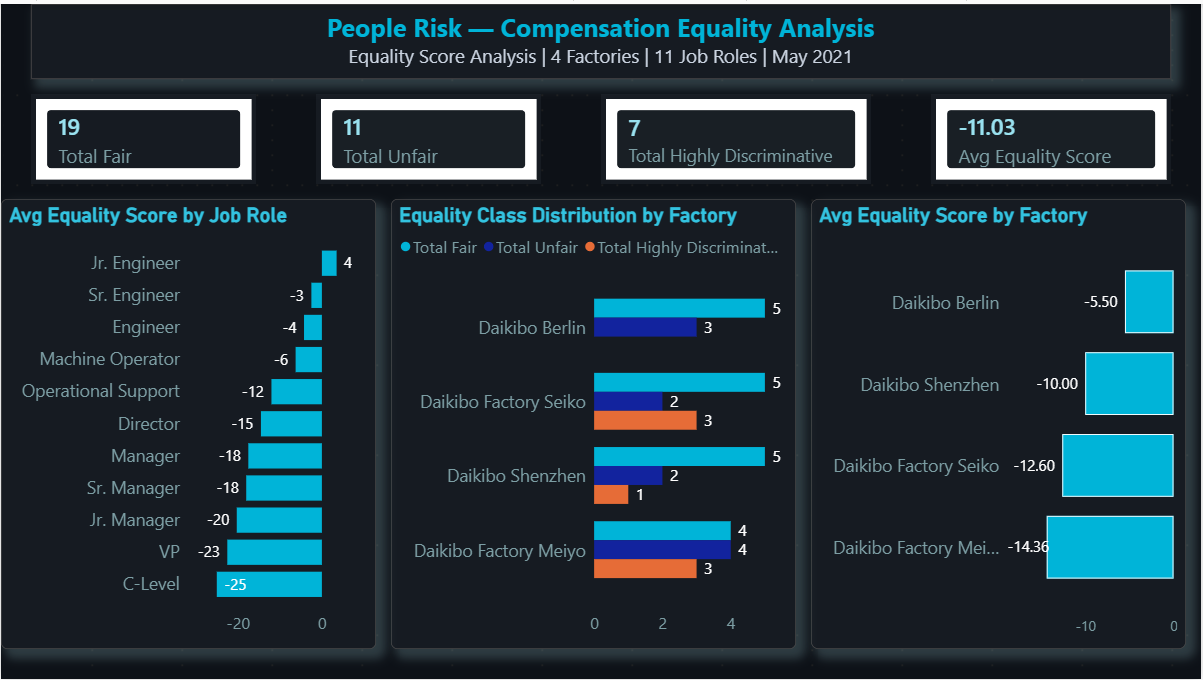

Layout of this report page (visuals, bound fields, positions):
{"tool":"powerbi","page":{"name":"People Risk","canvas":[1280,720],"ordinal":2},"visuals":[{"type":"clusteredBarChart","title":"Avg Equality Score by Factory","fields":{"Category":["Equality Table.Factory"],"Y":["Avg(Equality Table.Equality Score)"]},"box":[864,208,400,480],"z":0},{"type":"cardVisual","fields":{"Data":["KPI_Measures.Total Fair"]},"box":[32,96,240,96],"z":2000},{"type":"cardVisual","fields":{"Data":["KPI_Measures.Total Unfair"]},"box":[336,96,240,96],"z":3000},{"type":"cardVisual","fields":{"Data":["KPI_Measures.Total Highly Discriminative"]},"box":[640,96,288,96],"z":4000},{"type":"cardVisual","fields":{"Data":["KPI_Measures.Avg Equality Score"]},"box":[992,96,256,96],"z":5000},{"type":"clusteredBarChart","title":"Equality Class Distribution by Factory","fields":{"Category":["Equality Table.Factory"],"Y":["KPI_Measures.Total Fair","KPI_Measures.Total Unfair","KPI_Measures.Total Highly Discriminative"]},"box":[416,208,432,480],"z":6000},{"type":"textbox","box":[32,0,1216,80],"z":6001},{"type":"clusteredBarChart","fields":{"Category":["Equality Table.Job Role"],"Y":["KPI_Measures.Avg Equality Score"]},"box":[0,208,400,480],"z":6002}]}

Visuals, with their boxes in screenshot pixels (x1, y1, x2, y2), scaled from the page's 1280x720 canvas onto the 1203x680 screenshot:
"Avg Equality Score by Factory" clusteredBarChart: bbox(812, 196, 1188, 650)
cardVisual - KPI_Measures.Total Fair: bbox(30, 91, 256, 181)
cardVisual - KPI_Measures.Total Unfair: bbox(316, 91, 541, 181)
cardVisual - KPI_Measures.Total Highly Discriminative: bbox(602, 91, 872, 181)
cardVisual - KPI_Measures.Avg Equality Score: bbox(932, 91, 1173, 181)
"Equality Class Distribution by Factory" clusteredBarChart: bbox(391, 196, 797, 650)
textbox: bbox(30, 0, 1173, 76)
clusteredBarChart - Equality Table.Job Role x KPI_Measures.Avg Equality Score: bbox(0, 196, 376, 650)
